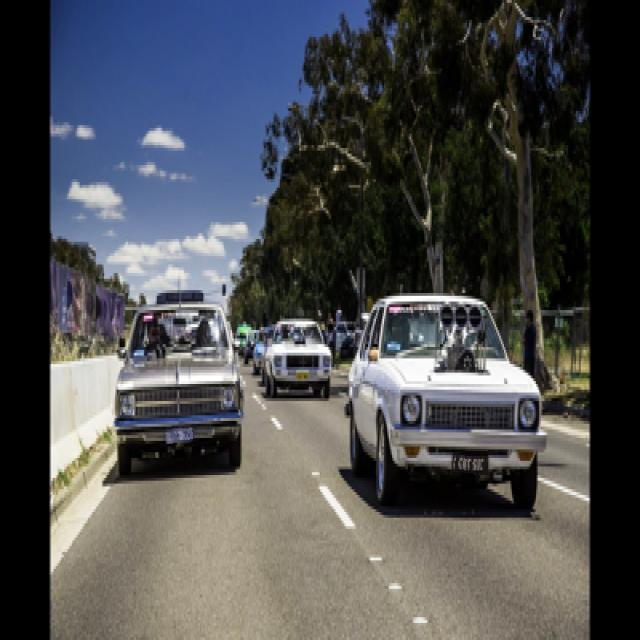licence: (451, 449, 488, 475), (163, 424, 194, 446)
